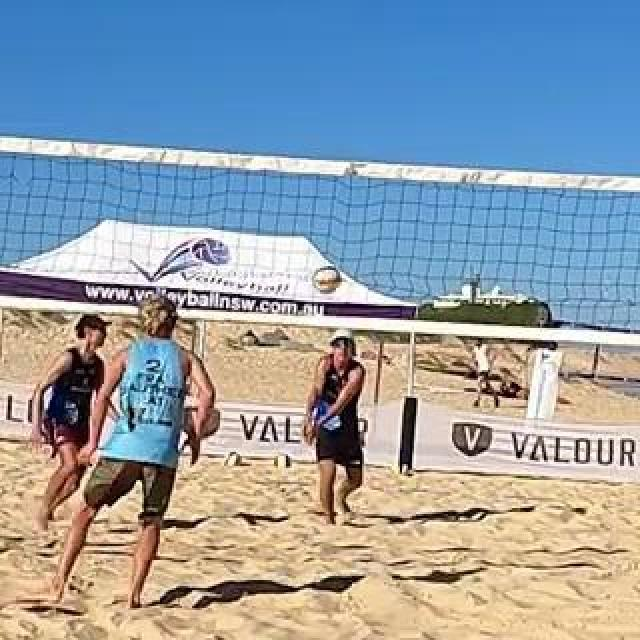volleyball: (313, 266, 341, 294)
